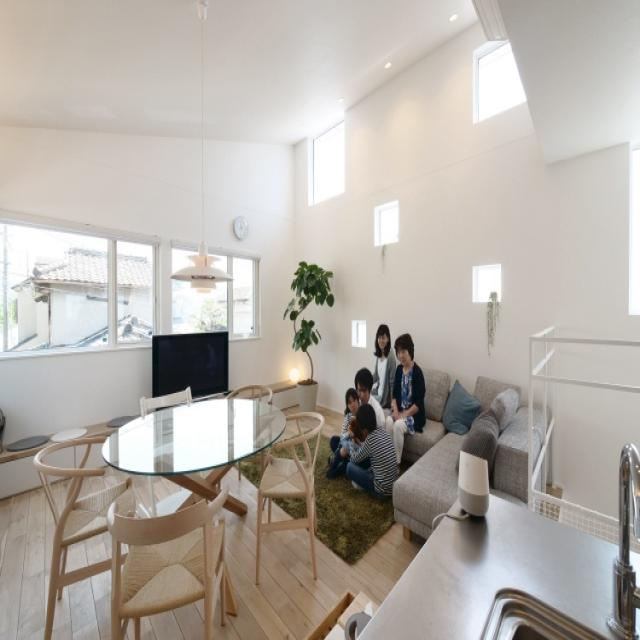natural chair: (103, 484, 229, 640), (34, 432, 110, 640), (258, 411, 325, 583)
natural desk: (109, 393, 260, 468)
